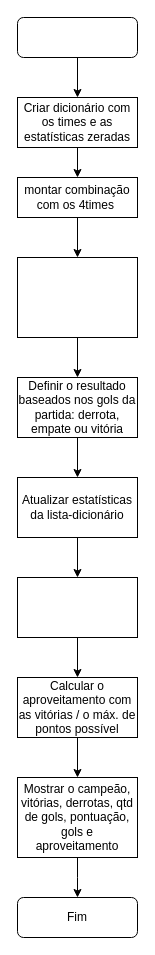
Image size: 155x955. Some labels were removed from this diagram. The box of each missing label's shape, as (x1, y1, x2, y2) in pixels:
Início: (16, 16, 138, 58)
Rodar a randomização de gols feitos / sofridos nas 6 partidas: (16, 256, 138, 338)
Rodar pela lista e definir quem terminou a roda com mais pontos: (16, 576, 138, 638)
